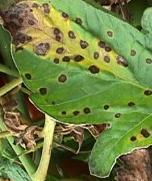Tomato Septoria leaf spot: (0, 0, 152, 172)
